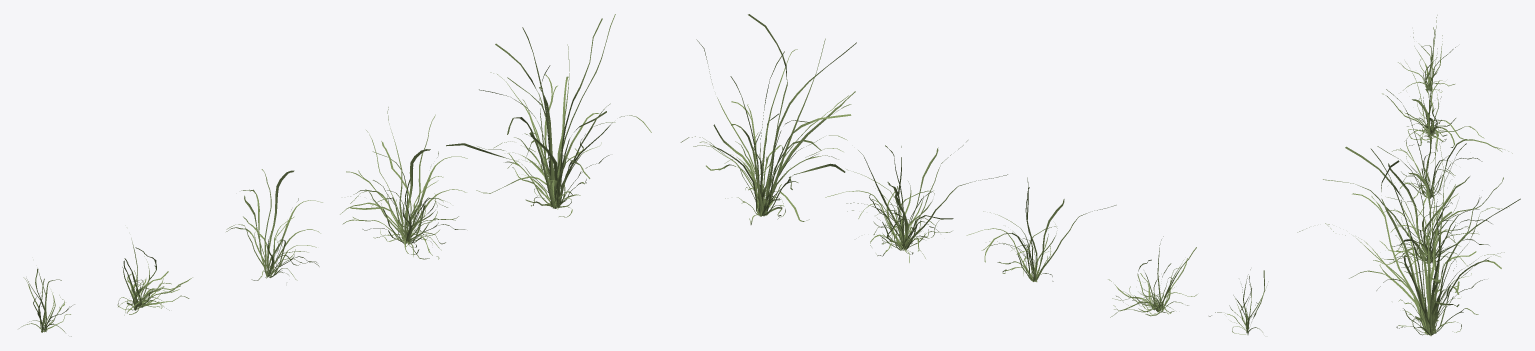
Rendered from grass_field_cluster.glb.
3 renders of one model, left to right at view 1: azimuth 30°, elevation 25°; view 2: azimuth 150°, elevation 25°; view 3: azimuth 270°, elevation 25°, orthographic. The views are drawn at different scales.
Visible parts, largest first — view 1: grass_medium_02_e, grass_medium_02_d, grass_medium_02_c, grass_medium_02_b, grass_medium_02_a; view 2: grass_medium_02_e, grass_medium_02_d, grass_medium_02_c, grass_medium_02_b, grass_medium_02_a; view 3: grass_medium_02_e, grass_medium_02_d, grass_medium_02_c, grass_medium_02_b, grass_medium_02_a.
Part boxes in pixels (bbox=[...]): grass_medium_02_e: bbox=[446, 14, 651, 217]; grass_medium_02_d: bbox=[340, 107, 467, 259]; grass_medium_02_c: bbox=[226, 169, 322, 280]; grass_medium_02_b: bbox=[117, 238, 192, 315]; grass_medium_02_a: bbox=[19, 268, 74, 336]; grass_medium_02_e: bbox=[680, 14, 856, 224]; grass_medium_02_d: bbox=[825, 140, 1007, 262]; grass_medium_02_c: bbox=[966, 177, 1116, 281]; grass_medium_02_b: bbox=[1108, 236, 1197, 317]; grass_medium_02_a: bbox=[1209, 269, 1268, 334]; grass_medium_02_e: bbox=[1297, 142, 1520, 335]; grass_medium_02_d: bbox=[1323, 143, 1509, 274]; grass_medium_02_c: bbox=[1386, 89, 1512, 215]; grass_medium_02_b: bbox=[1382, 48, 1484, 151]; grass_medium_02_a: bbox=[1398, 15, 1455, 92].
Size of the model in its own units: 3.56 by 1.1 by 1.18.
